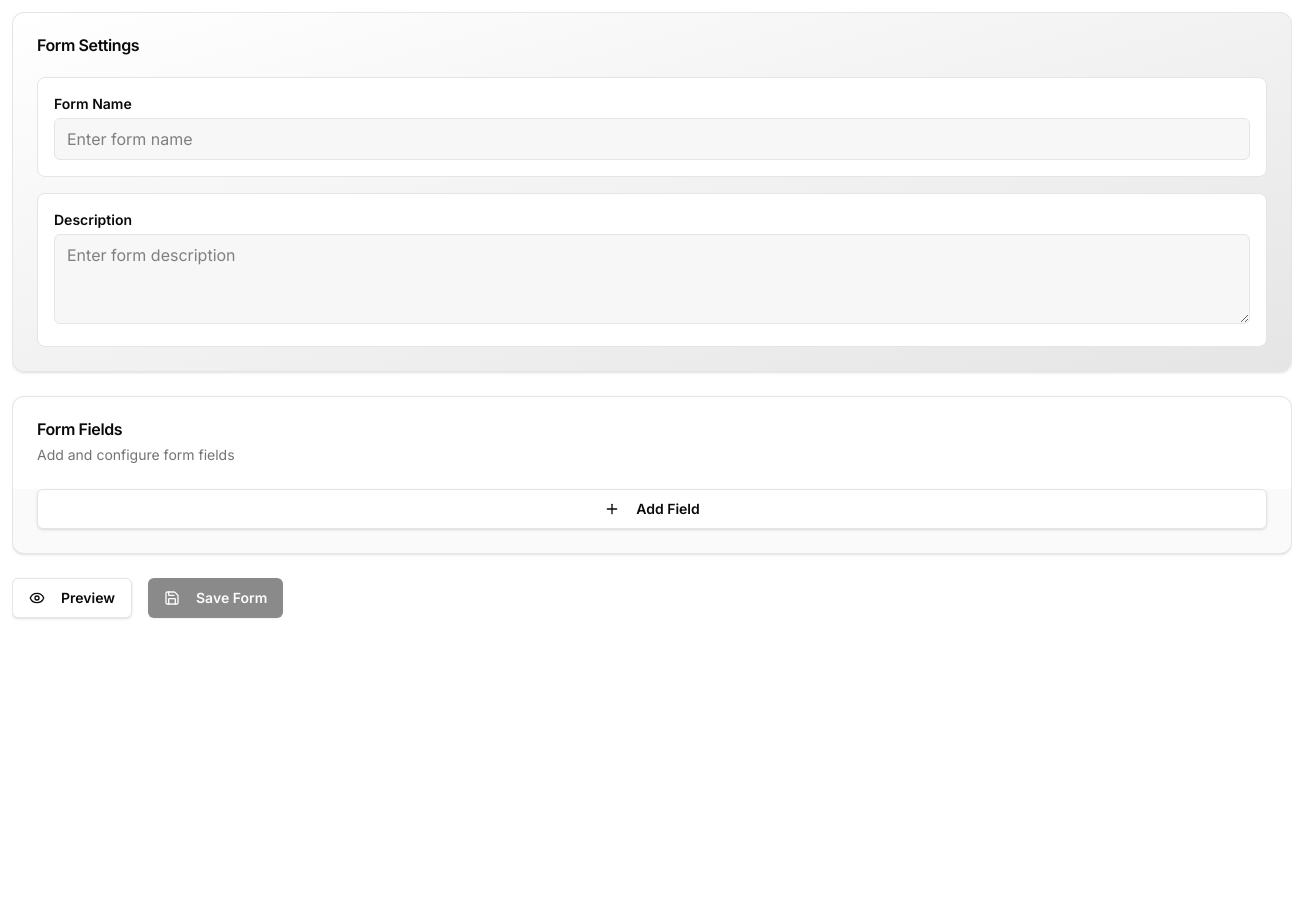
FormBuilderUI › Preview Mode › renders form fields in preview
Add a field
Click the button "Add Field" at (652, 509), box [37,489,1267,529]
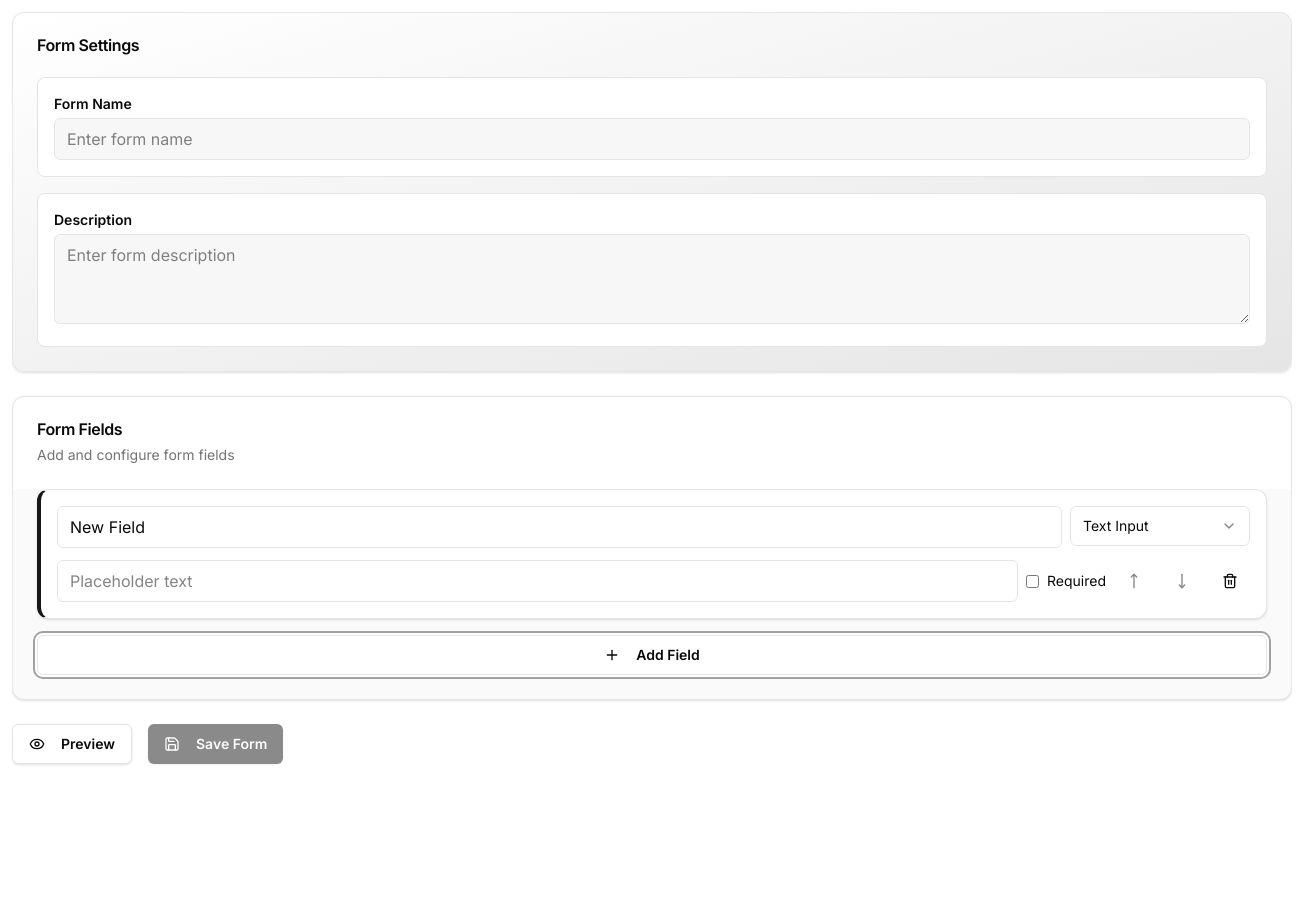
Replace the text in the field showing "New Field" with "Email Address" at (560, 527), box [57,506,1062,548]
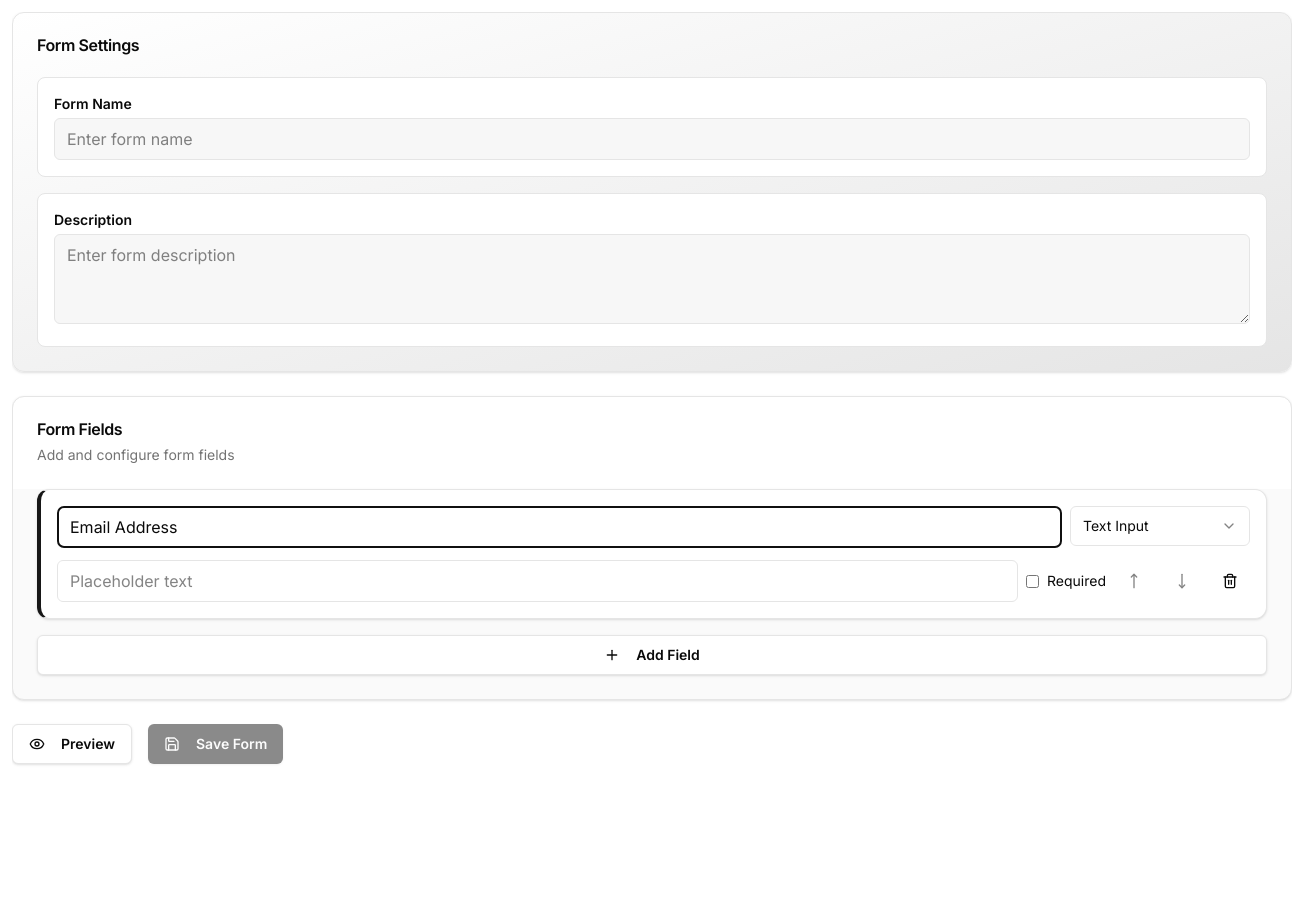
Switch to preview
Click the button "Preview" at (72, 744), box [12,724,132,764]
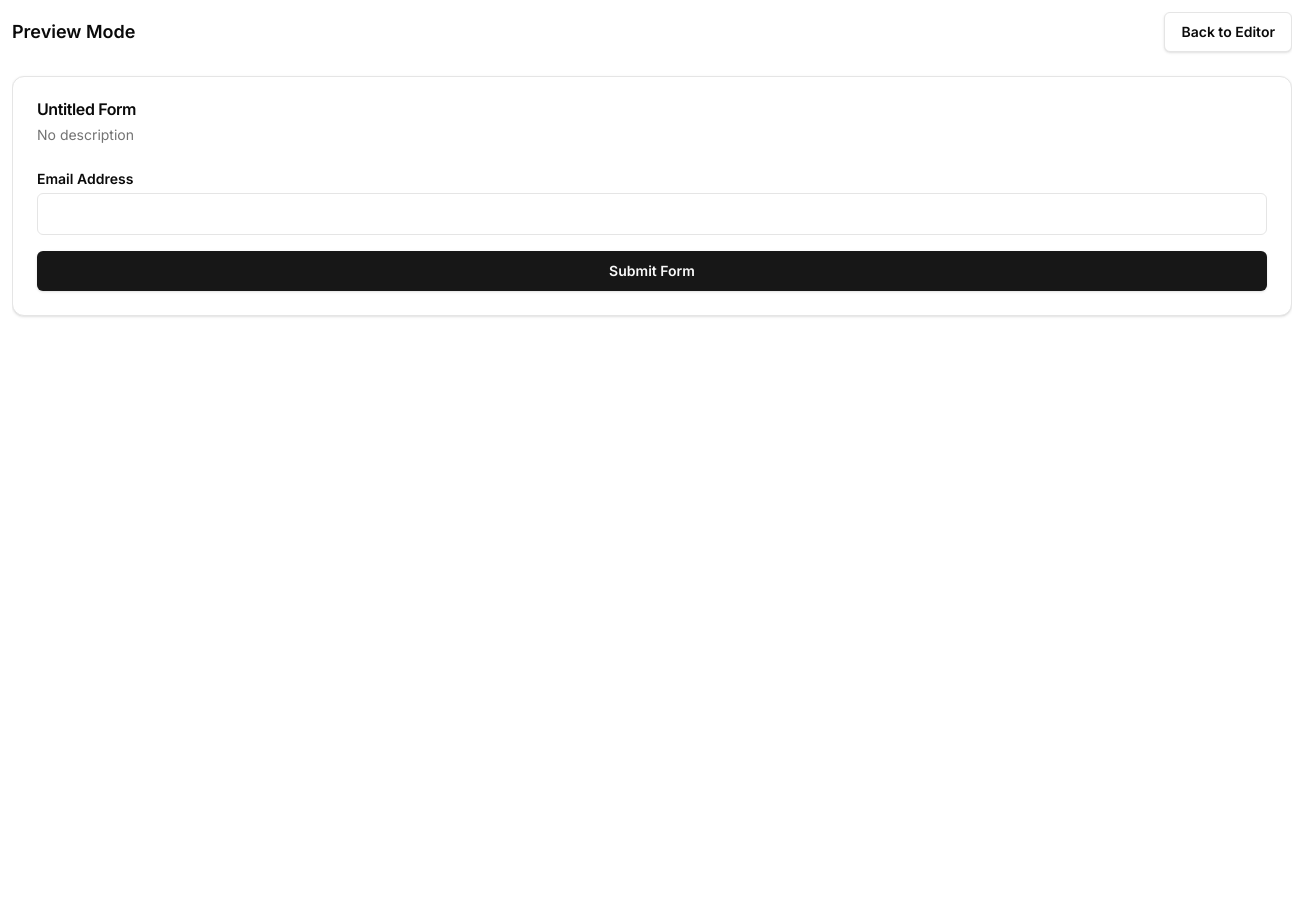
expect the field is shown: met, box [37,193,1267,235]
expect the text "Email Address" is shown: met, box [37,170,133,187]
